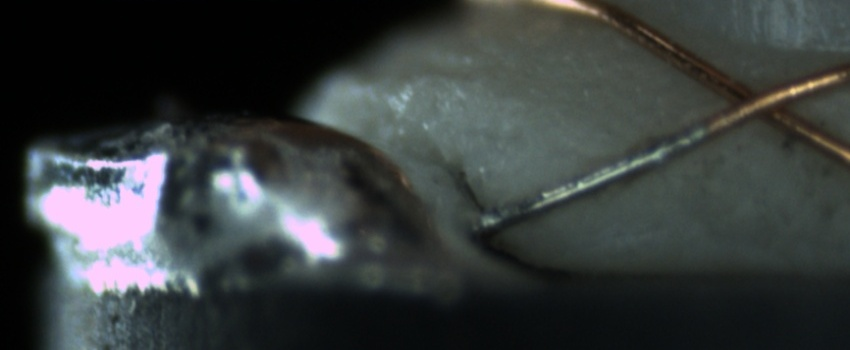CL: (704, 66, 815, 135)
TS: (470, 120, 709, 237)
